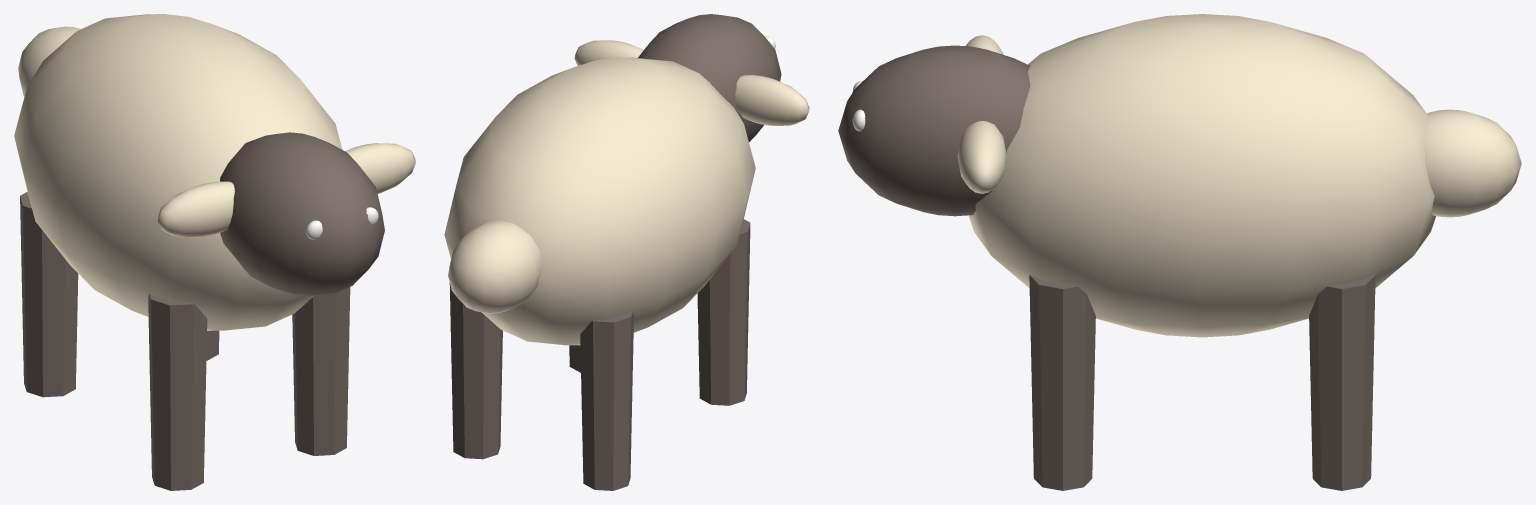
File: sheep.glb
3 renders of one model, left to right at view 1: azimuth 30°, elevation 25°; view 2: azimuth 150°, elevation 25°; view 3: azimuth 270°, elevation 25°, orthographic. The views are drawn at different scales.
Parts seen in each view (by area): view 1: Wool body, Sheep head, Leg, Leg.001, Leg.002, Ear, Ear.001, Tail; view 2: Wool body, Leg.001, Leg.003, Leg, Sheep head, Tail, Ear, Ear.001; view 3: Wool body, Sheep head, Leg.002, Leg.003, Tail, Ear.001.
Part boxes in pixels (x1,y1,x2,y2): Wool body: (14,14,342,330); Sheep head: (220,132,384,296); Leg: (148,293,207,490); Leg.001: (20,192,78,397); Leg.002: (292,287,350,455); Ear: (157,181,234,237); Ear.001: (345,143,415,193); Tail: (18,26,80,96); Wool body: (444,57,755,345); Leg.001: (580,311,633,490); Leg.003: (449,283,502,459); Leg: (697,219,750,405); Sheep head: (638,14,781,142); Tail: (448,220,541,313); Ear: (735,75,809,125); Ear.001: (574,40,643,65); Wool body: (968,14,1435,337); Sheep head: (838,45,1030,216); Leg.002: (1029,274,1095,490); Leg.003: (1309,274,1375,490); Tail: (1424,109,1521,217); Ear.001: (957,121,1006,193).
Size of the model in its own units: 0.72 by 1.01 by 1.52.
